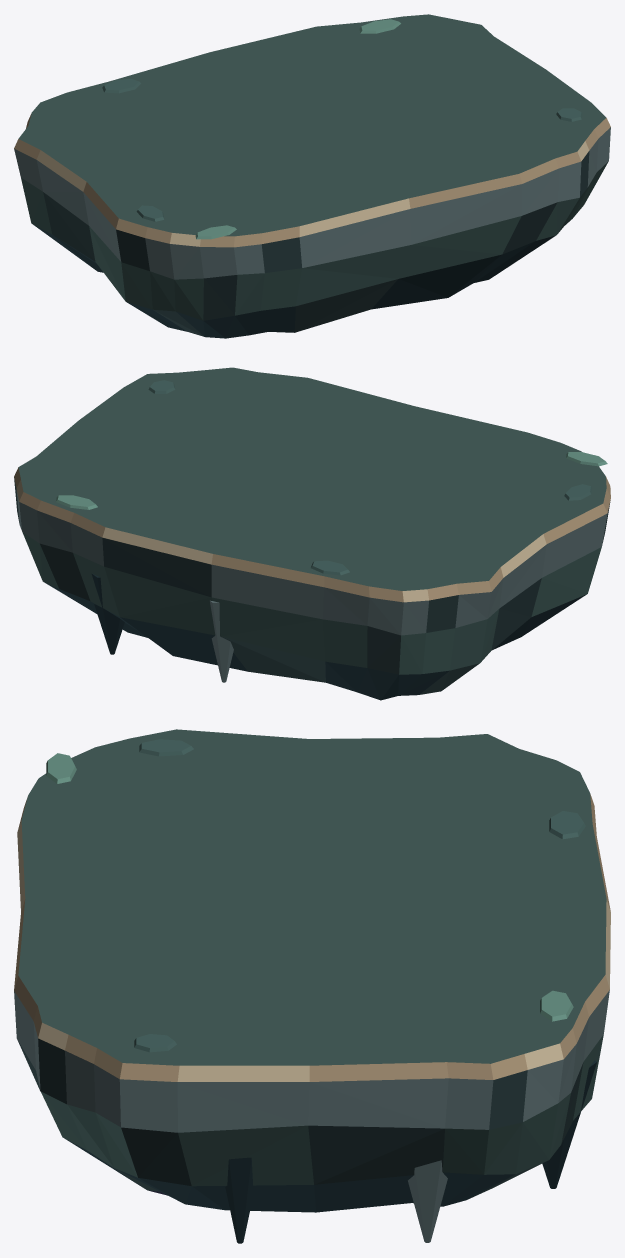
The model's file is Environment_SanctuaryIsland.fbx.
The picture shows the model from 3 angles, top to bottom: view 1: azimuth 30°, elevation 25°; view 2: azimuth 150°, elevation 25°; view 3: azimuth 270°, elevation 25°; orthographic projection. The views are drawn at different scales.
Parts seen in each view (by area): view 1: Environment_SanctuaryIsland; view 2: Environment_SanctuaryIsland; view 3: Environment_SanctuaryIsland.
Boxes of the visible parts, left/top/right/bottom form: Environment_SanctuaryIsland: left=14, top=14, right=610, bottom=338; Environment_SanctuaryIsland: left=14, top=367, right=610, bottom=700; Environment_SanctuaryIsland: left=14, top=729, right=610, bottom=1243.
Bounding box in the file's own units: 15.09 × 5.01 × 11.15.
